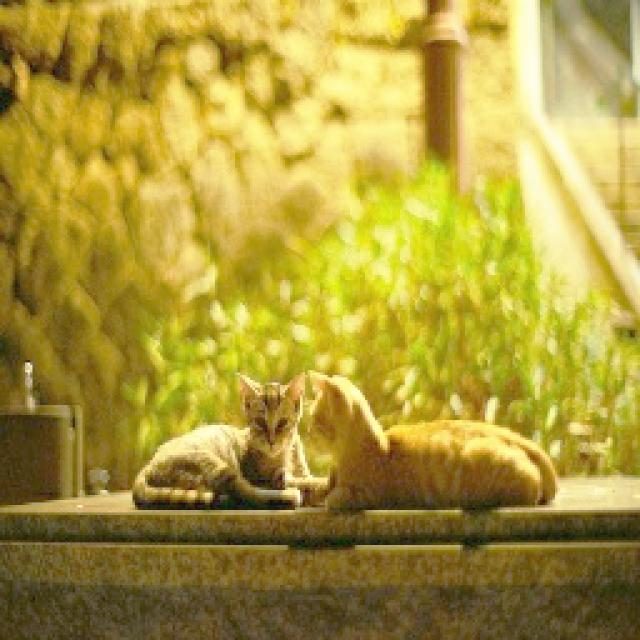cat: (308, 331, 569, 542), (100, 340, 350, 530)
